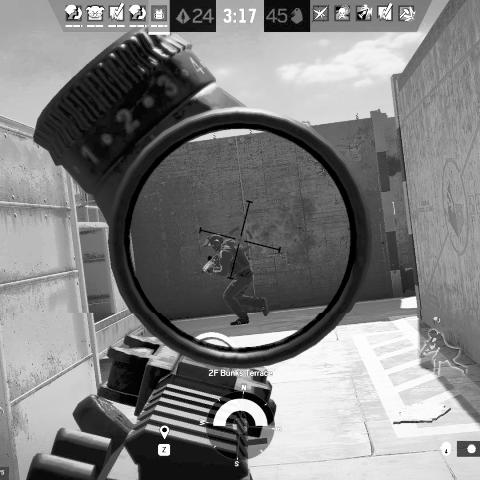Character: (201, 233, 270, 327)
Friend_label: (420, 316, 453, 331)
Head: (208, 234, 224, 252)
